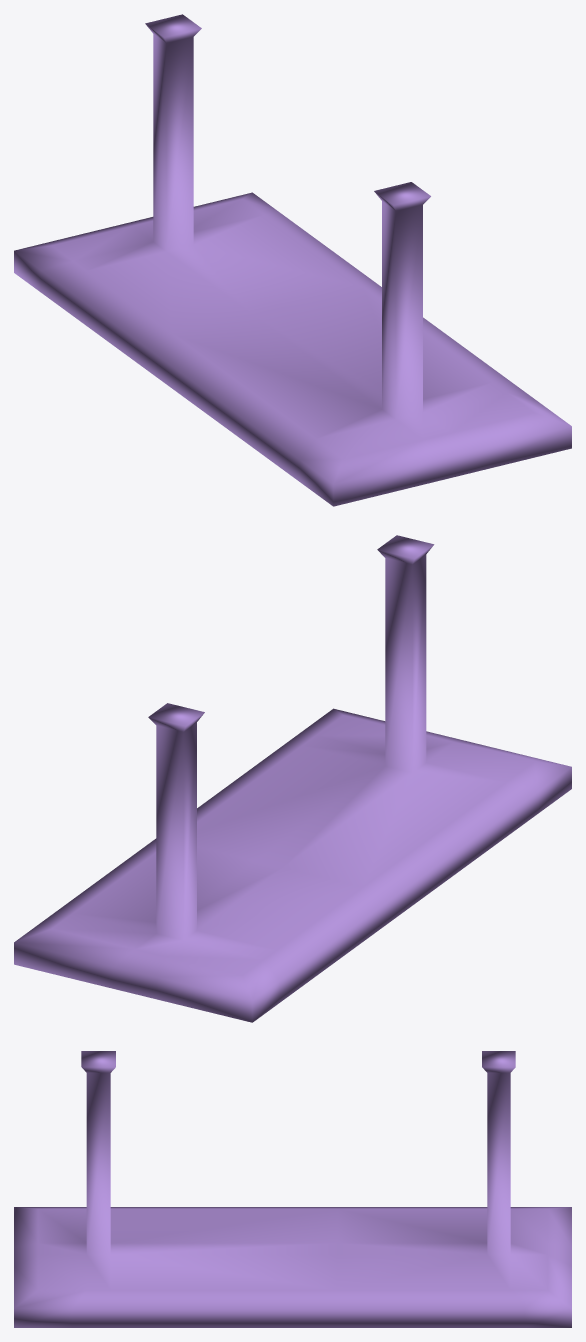
Rendered from HangingLight.fbx.
3 renders of one model, top to bottom at view 1: azimuth 30°, elevation 25°; view 2: azimuth 150°, elevation 25°; view 3: azimuth 270°, elevation 25°, orthographic. The views are drawn at different scales.
Visible parts, largest first — view 1: LightHanging:Box001; view 2: LightHanging:Box001; view 3: LightHanging:Box001.
Part boxes in pixels (x1,y1,x2,y2): LightHanging:Box001: (14, 14, 571, 506); LightHanging:Box001: (14, 535, 571, 1022); LightHanging:Box001: (14, 1051, 571, 1327).
Size of the model in its own units: 10 by 9.97 by 23.19.
